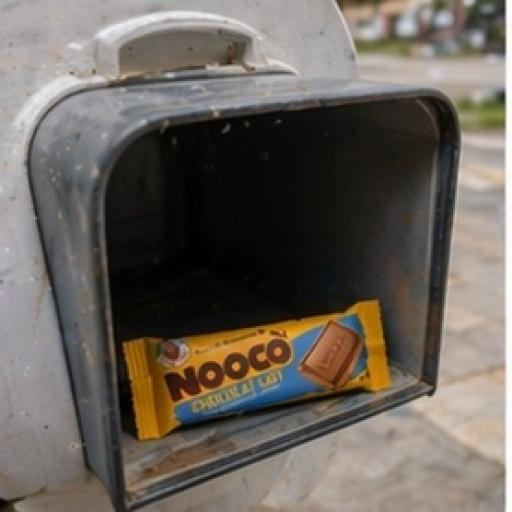biscuit-detection: (59, 234, 478, 464)
